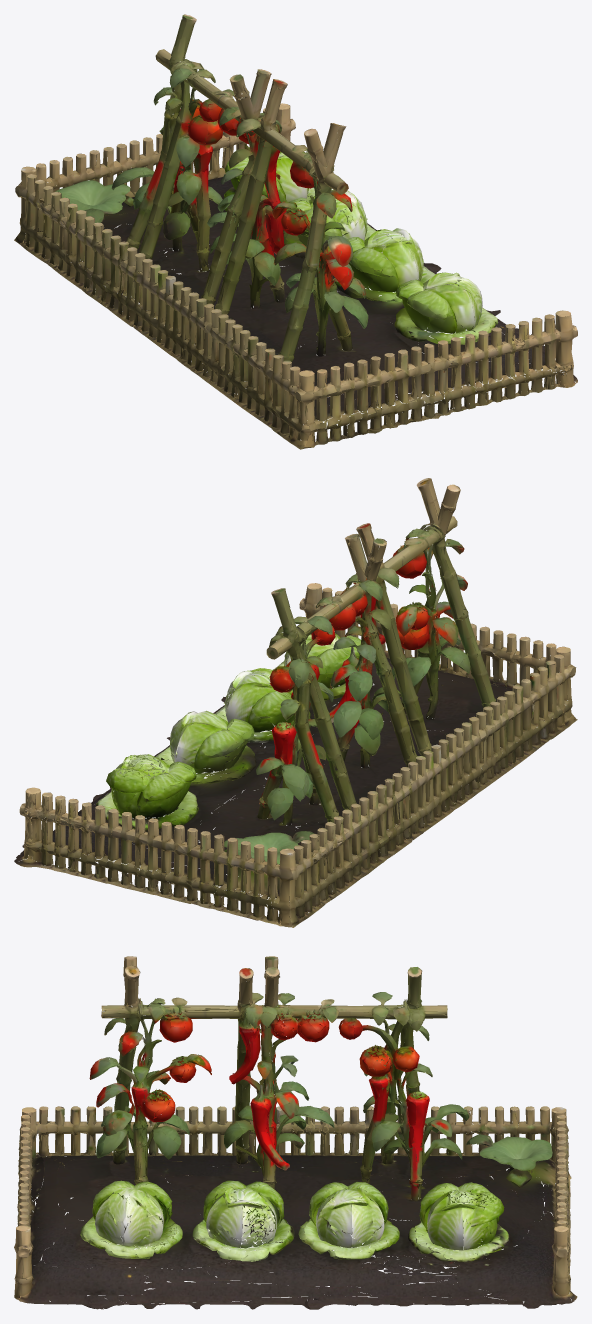
Rendered from veggie.glb.
The picture shows the model from 3 angles, top to bottom: view 1: azimuth 30°, elevation 25°; view 2: azimuth 150°, elevation 25°; view 3: azimuth 270°, elevation 25°; orthographic projection. The views are drawn at different scales.
Parts seen in each view (by area): view 1: node_0; view 2: node_0; view 3: node_0.
Boxes of the visible parts, box(x1,y1,x2,y2) form: node_0: box(14, 14, 577, 449); node_0: box(14, 478, 577, 927); node_0: box(14, 956, 577, 1309).
Bounding box in the file's own units: 0.562 × 0.481 × 0.9798.
Materials: 1 (1 with a texture image).
